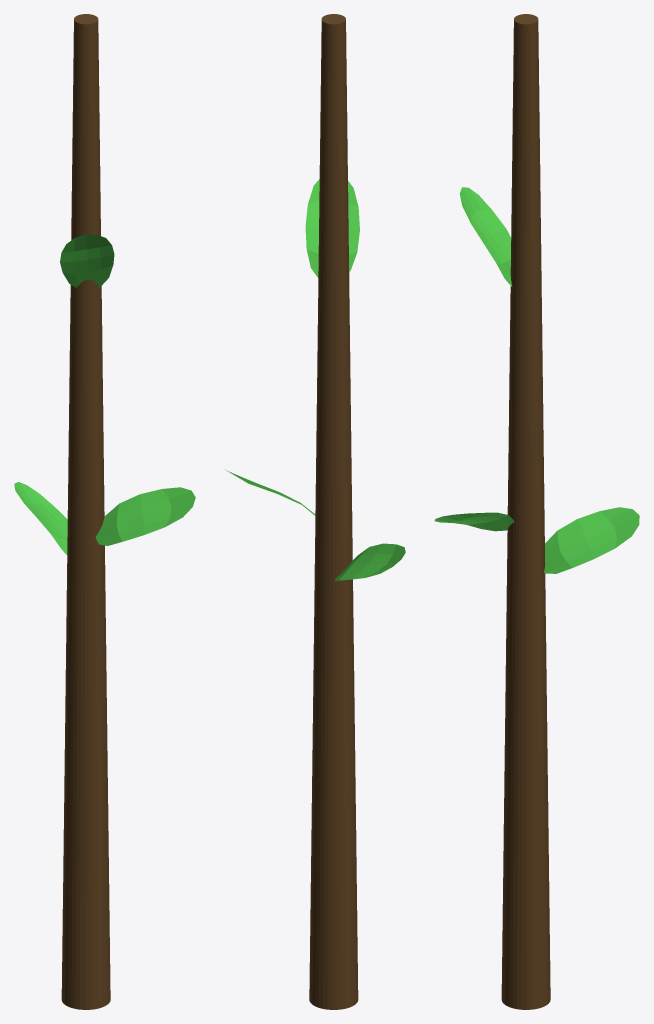
File: Stick_3.fbx
3 renders of one model, left to right at view 1: azimuth 30°, elevation 25°; view 2: azimuth 210°, elevation 25°; view 3: azimuth 270°, elevation 25°, orthographic.
Visible parts, largest first — view 1: Cylinder, Leaf.002, Leaf, Leaf.001; view 2: Cylinder, Leaf, Leaf.001; view 3: Cylinder, Leaf.001, Leaf, Leaf.002.
Boxes of the visible parts, x1,y1,x2,y2 form: Cylinder: (61,14,110,1009); Leaf.002: (95,487,195,545); Leaf: (60,234,114,287); Leaf.001: (14,482,67,554); Cylinder: (309,14,358,1009); Leaf: (305,179,359,277); Leaf.001: (334,543,405,581); Cylinder: (501,14,550,1009); Leaf.001: (544,507,639,573); Leaf: (459,187,512,286); Leaf.002: (434,512,514,531).
Size of the model in its own units: 141 by 1175 by 223.
